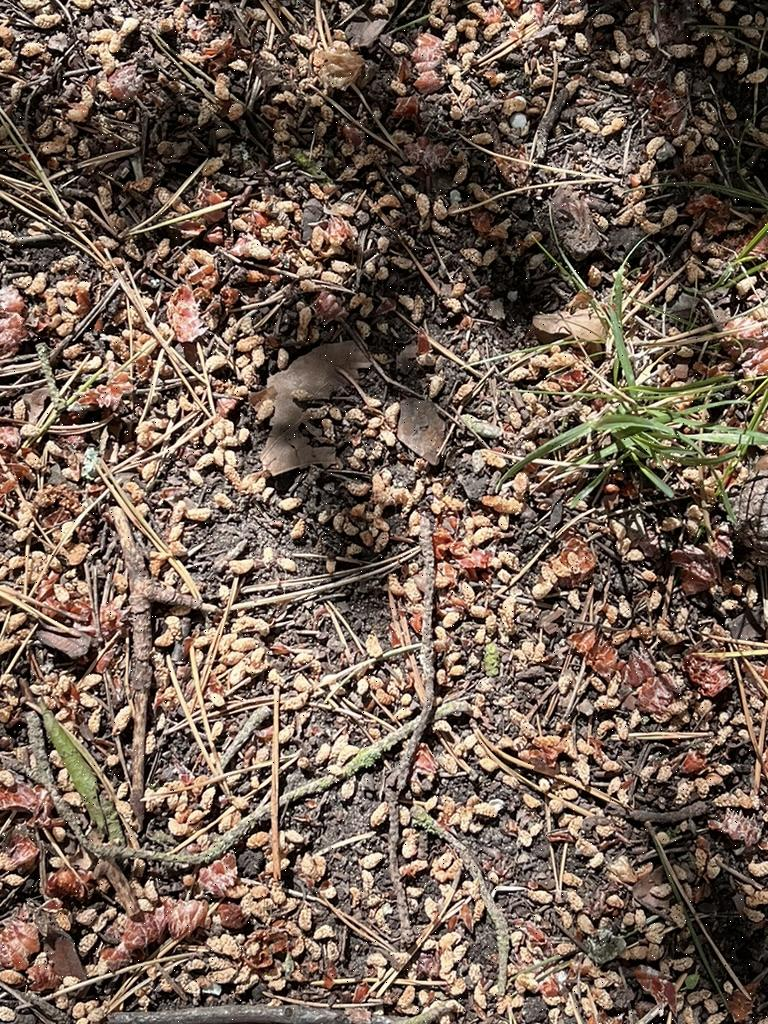pine: (718, 460, 768, 605)
